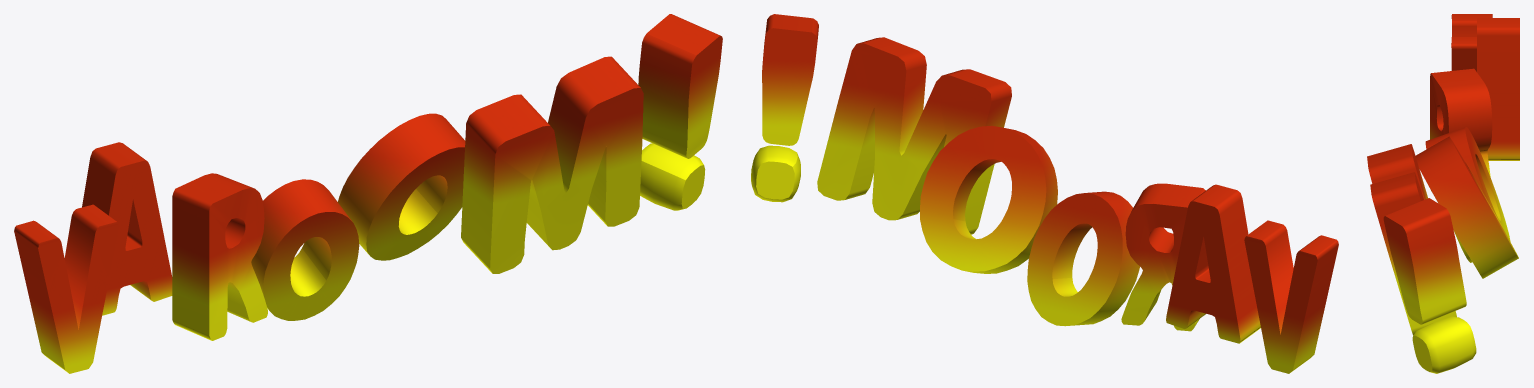
File: 文字特效.glb
3 views of the same model, side by side, from view 1: azimuth 30°, elevation 25°; view 2: azimuth 150°, elevation 25°; view 3: azimuth 270°, elevation 25° (orthographic). The views are drawn at different scales.
Visible parts, largest first — view 1: comic_sound_Varoom.1; view 2: comic_sound_Varoom.1; view 3: comic_sound_Varoom.1.
Boxes of the visible parts, x1,y1,x2,y2 form: comic_sound_Varoom.1: (14, 14, 722, 373); comic_sound_Varoom.1: (751, 14, 1338, 373); comic_sound_Varoom.1: (1367, 14, 1519, 373).
Size of the model in its own units: 0.1091 by 0.0365 by 0.0256.
1 material, 1 textured.
